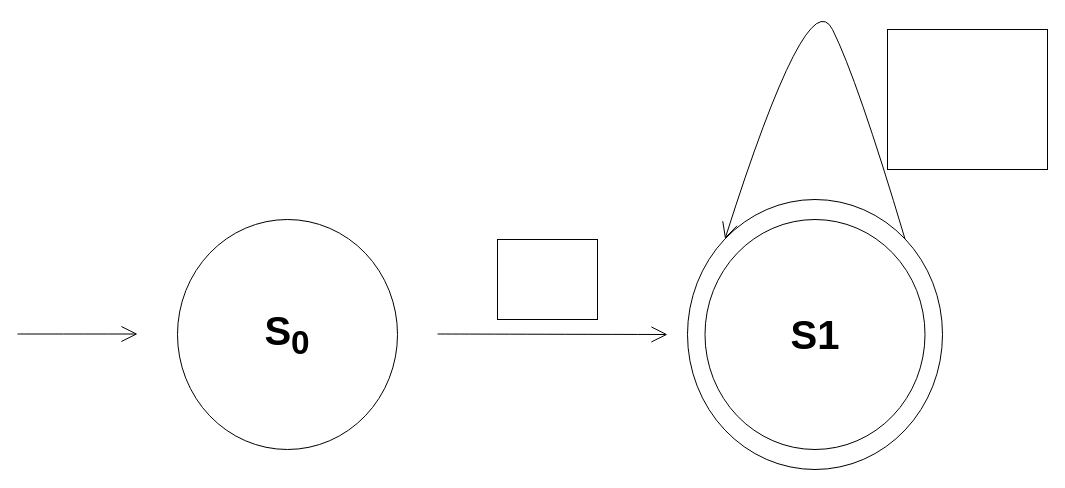
Some shapes in this 1065 by 488 pixel diagram are drawn without their labels. The centre of each missing label's shape, as x and y in pixels:
a...z, A...Z: the point at 547,279
a...z, A...Z, 0...9: the point at 967,99
